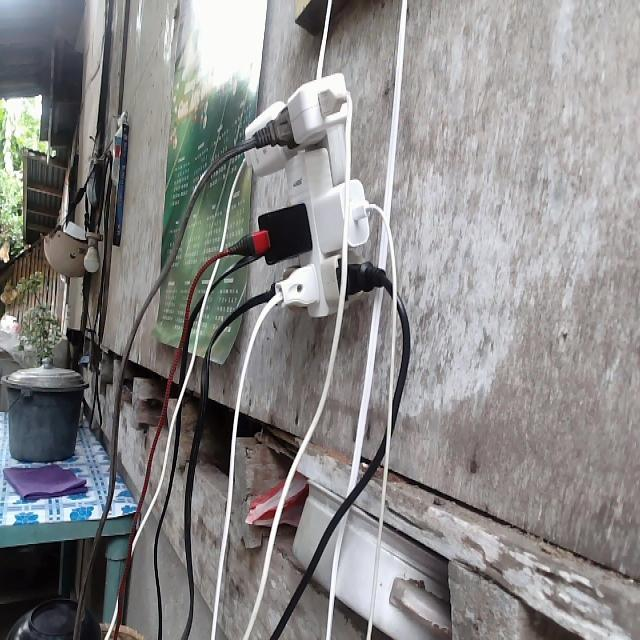-: (221, 72, 397, 325)
